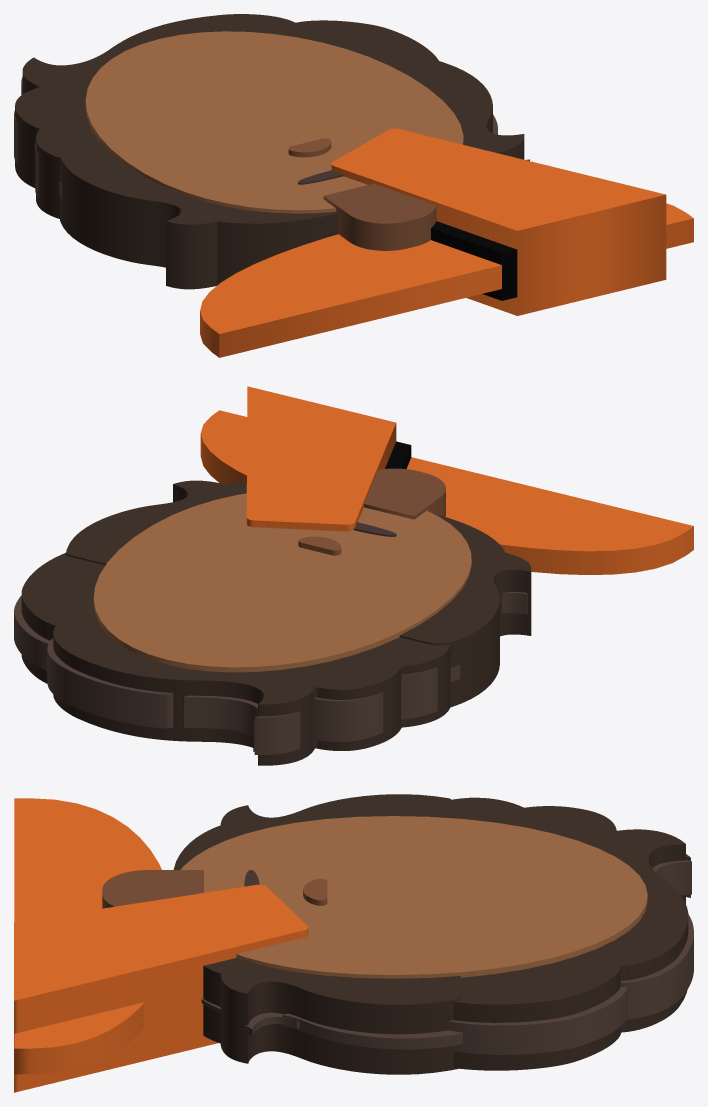
The model's file is emoji_u1f926_1f3fe.glb.
3 views of the same model, one above another, from view 1: azimuth 30°, elevation 25°; view 2: azimuth 150°, elevation 25°; view 3: azimuth 270°, elevation 25° (orthographic). The views are drawn at different scales.
Visible parts, largest first — view 1: emoji_u1f926_1f3fe; view 2: emoji_u1f926_1f3fe; view 3: emoji_u1f926_1f3fe.
Part boxes in pixels (bbox=[...]): emoji_u1f926_1f3fe: bbox=[14, 14, 693, 357]; emoji_u1f926_1f3fe: bbox=[14, 386, 693, 765]; emoji_u1f926_1f3fe: bbox=[14, 794, 693, 1092].
Size of the model in its own units: 0.0292 by 0.005 by 0.0335.
